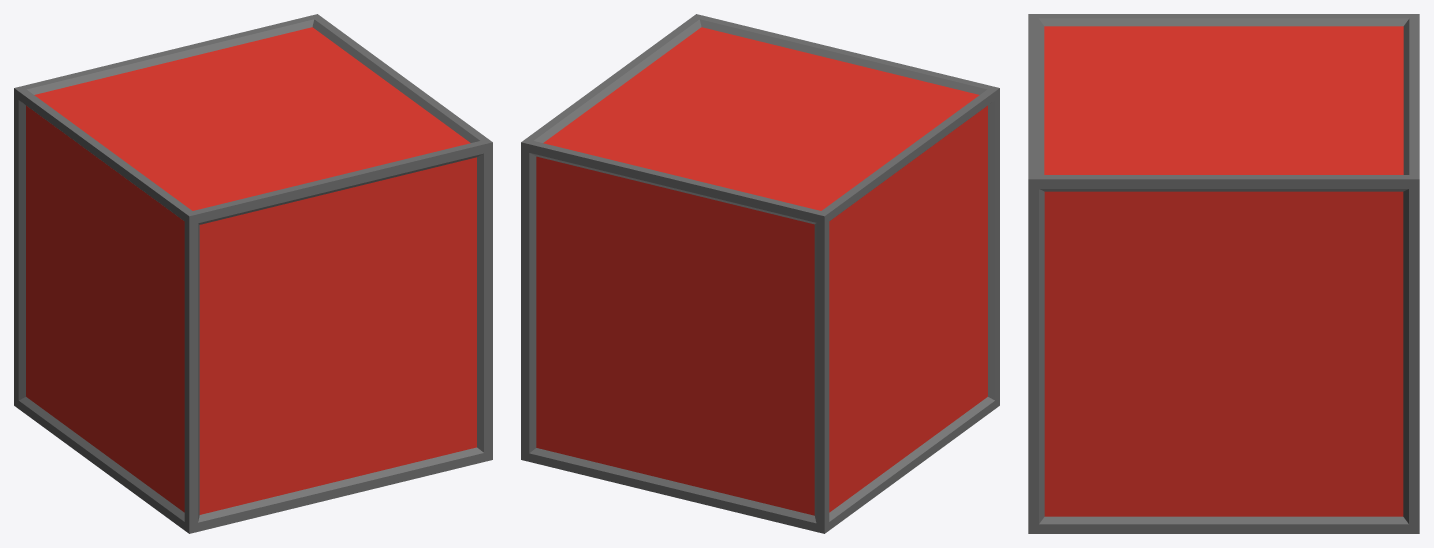
3 views of the same model, side by side, from view 1: azimuth 30°, elevation 25°; view 2: azimuth 150°, elevation 25°; view 3: azimuth 270°, elevation 25° (orthographic). The views are drawn at different scales.
Visible parts, largest first — view 1: Cube.036; view 2: Cube.036; view 3: Cube.036.
Part boxes in pixels (box(x1,y1,x2,y2)): Cube.036: box(14, 14, 492, 533); Cube.036: box(521, 14, 999, 533); Cube.036: box(1028, 14, 1419, 533).
Size of the model in its own units: 121 by 121 by 121.
